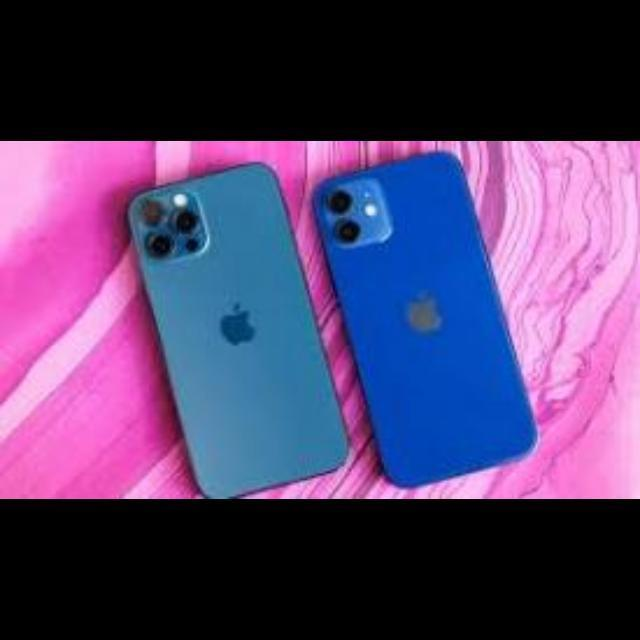PhoneUse: (316, 154, 540, 492), (128, 162, 352, 498)
